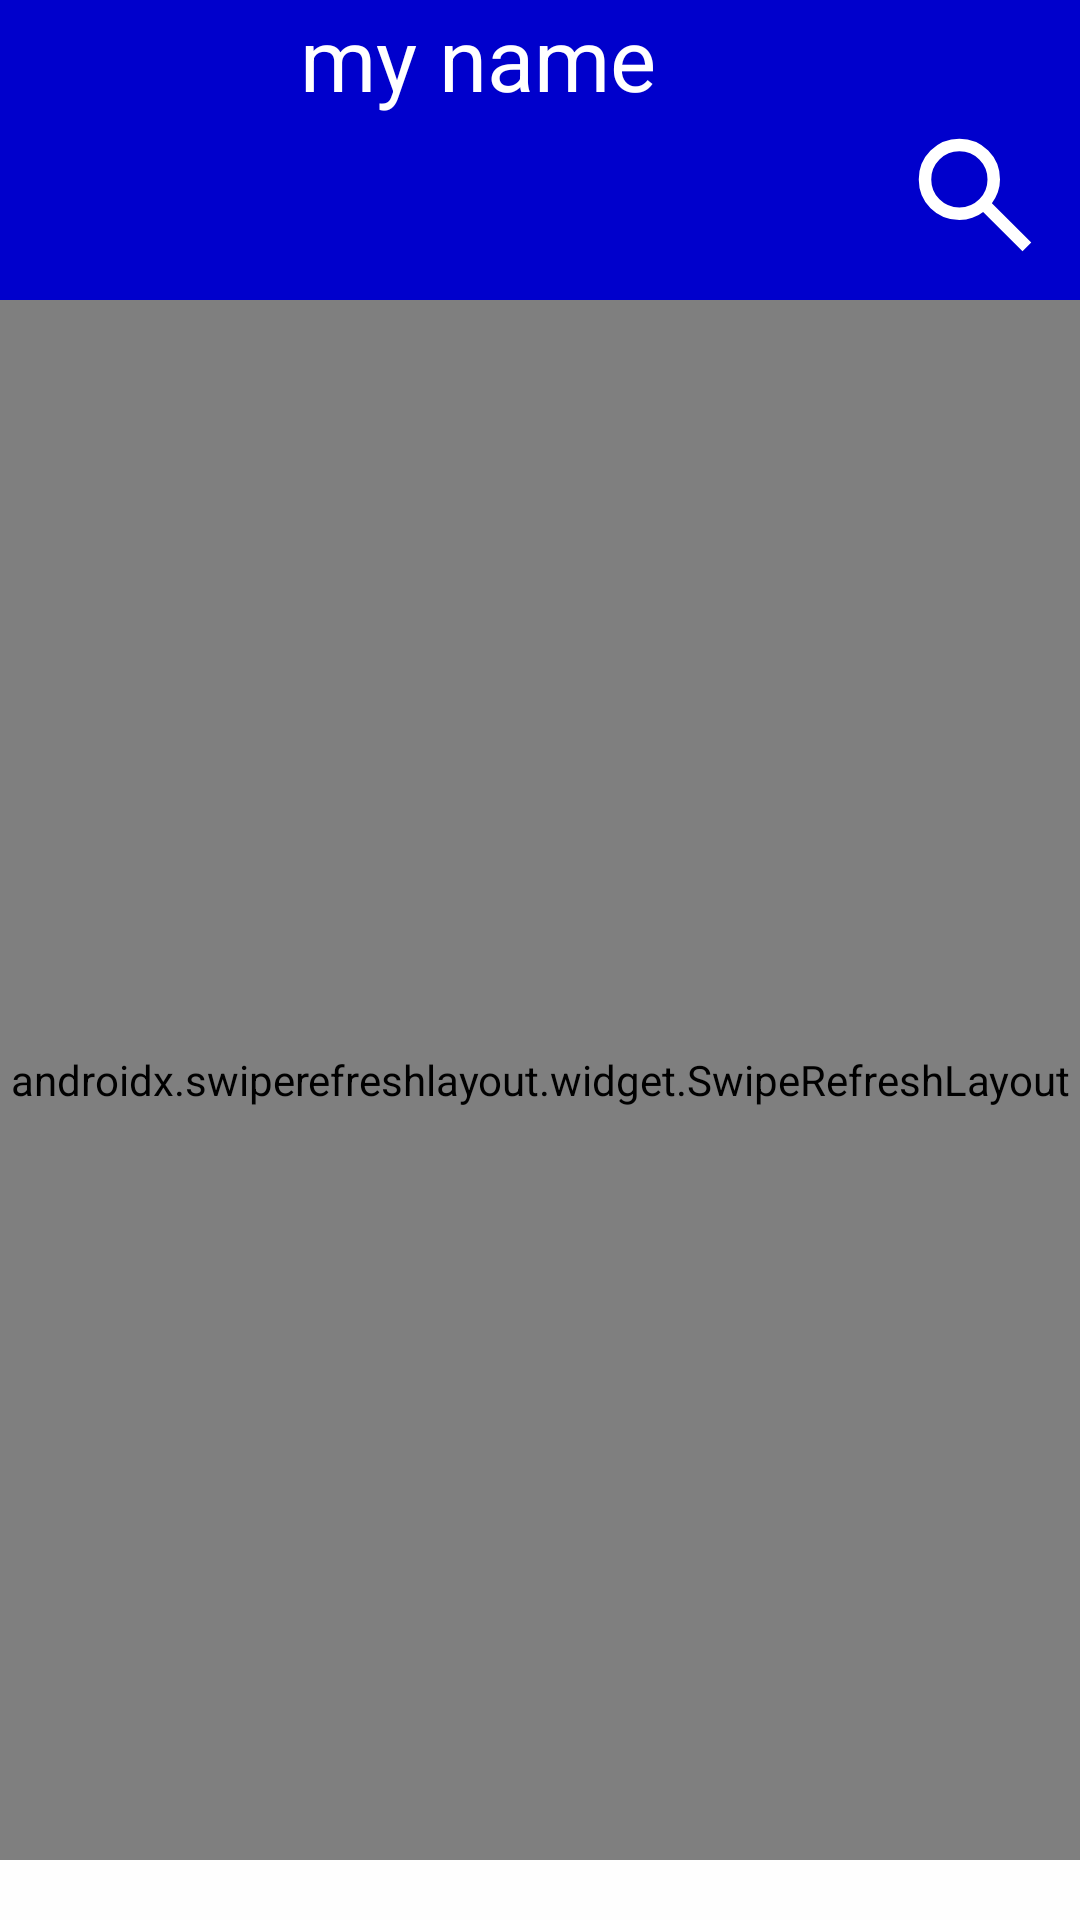

Icon bounding boxes for this 1080w x 1920h phone screenshot, format (x1, y1, x2, y2):
search: (918, 138, 1031, 251)
